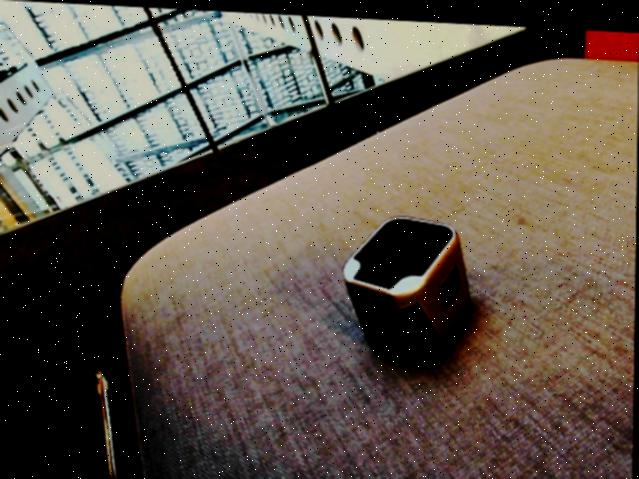adapter: (343, 209, 473, 360)
